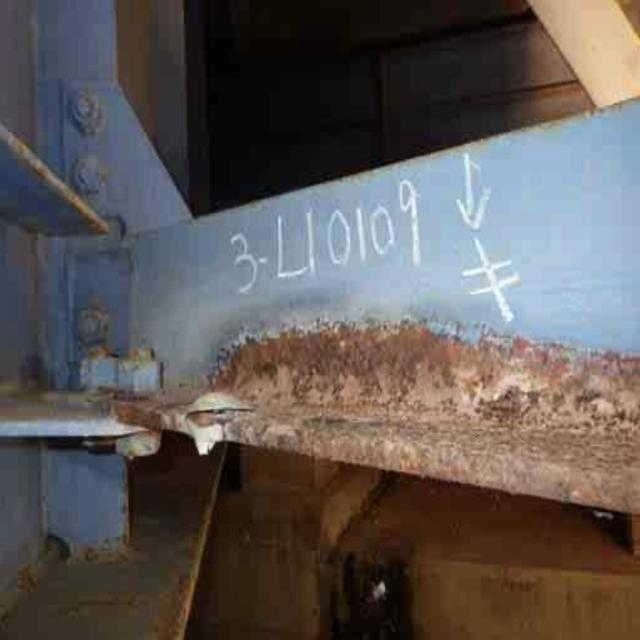corrosion: (123, 307, 640, 510)
